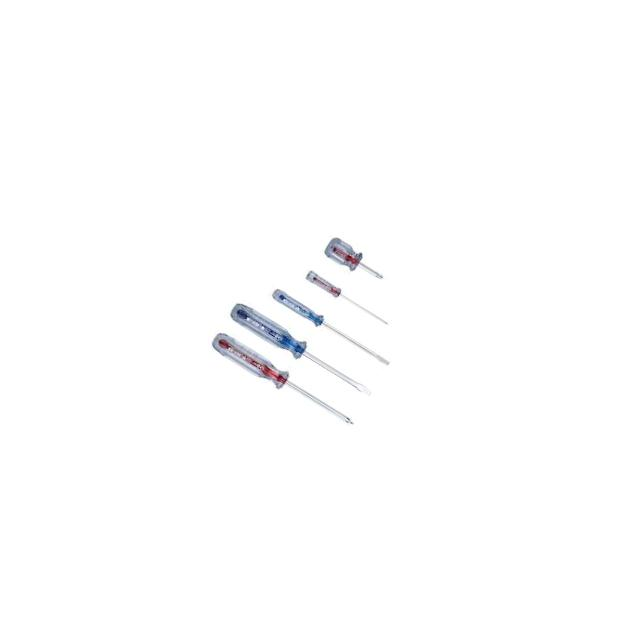screwdriver: (205, 326, 363, 438), (222, 295, 379, 407), (266, 283, 392, 370), (299, 266, 392, 331), (319, 232, 395, 292)
